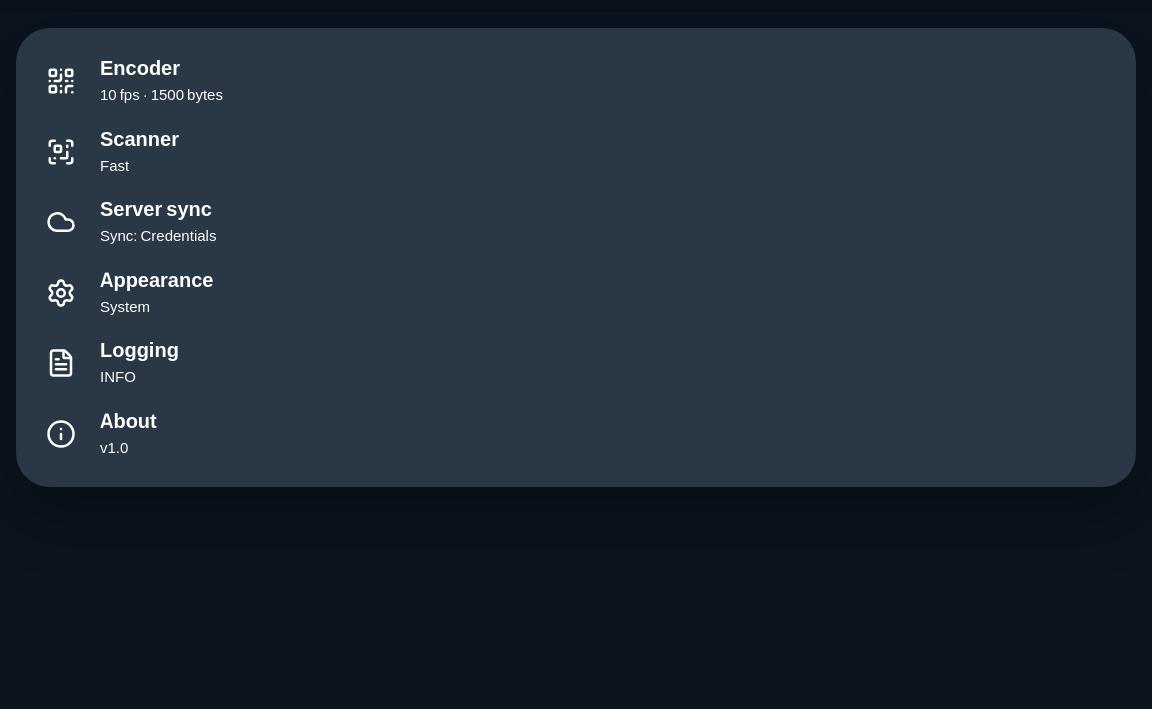
Test: SettingsTab server auth flow › does not render a separate Sign In button when the server requires auth
Click the button "Server sync Sync: Credentials".
click(61, 222)  # box [16, 187, 1136, 258]
(page scrolled)
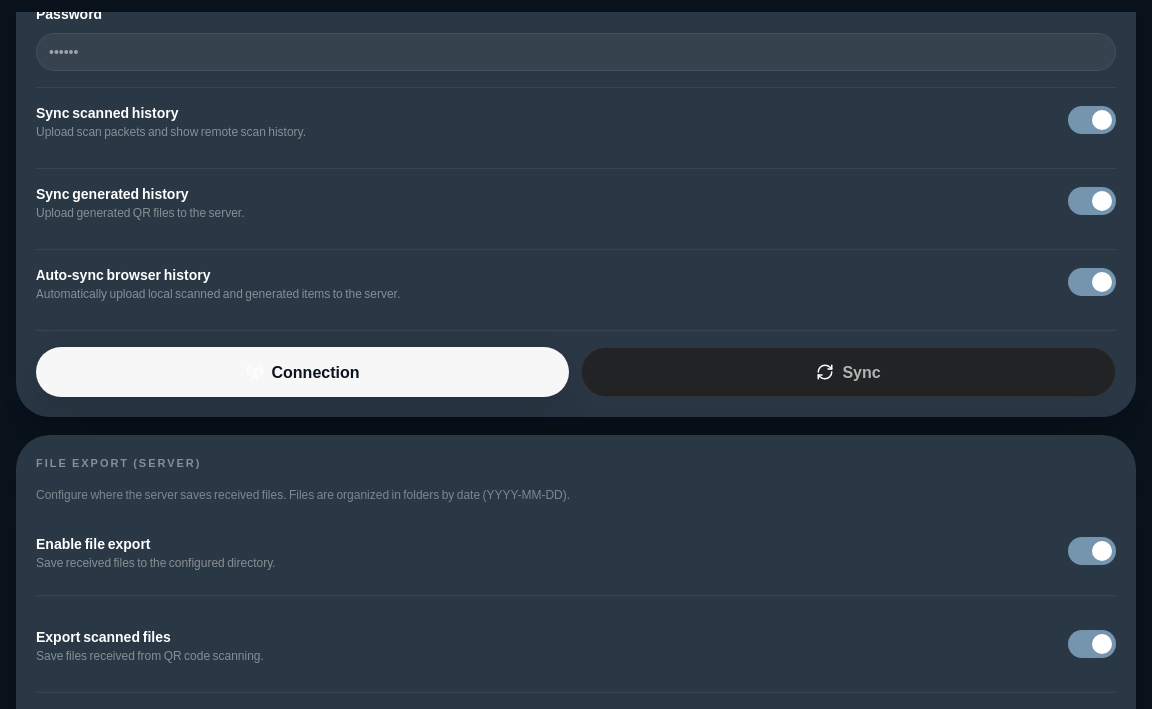
Now the button "Connection" is shown, box [36, 346, 569, 396]
